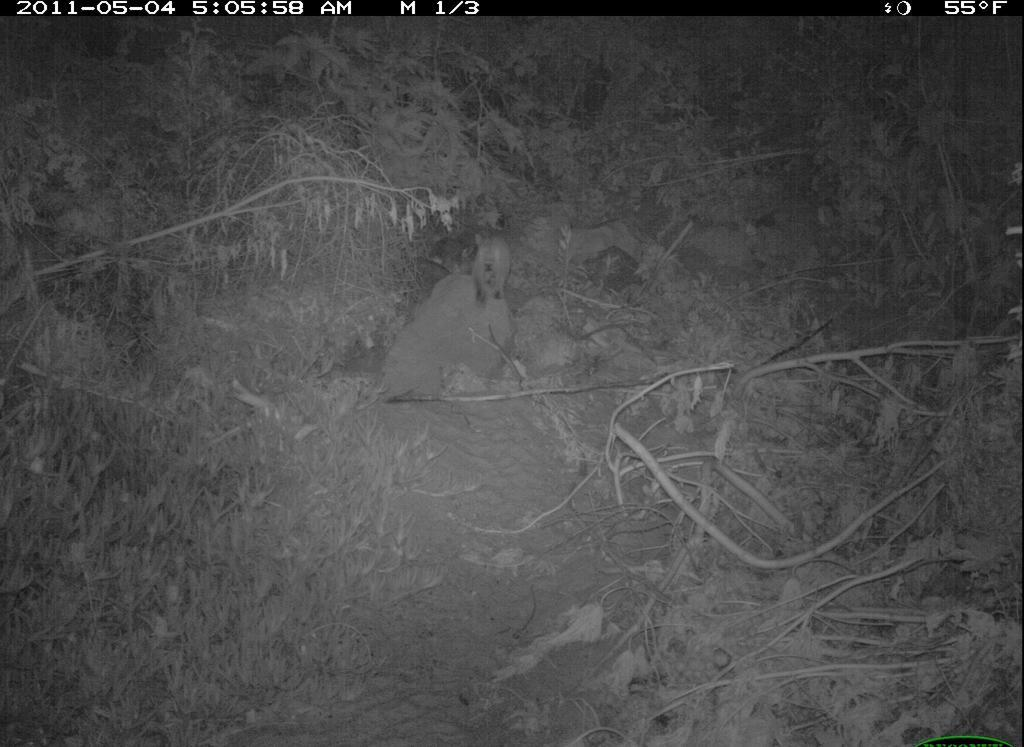bobcat: (468, 229, 516, 312)
